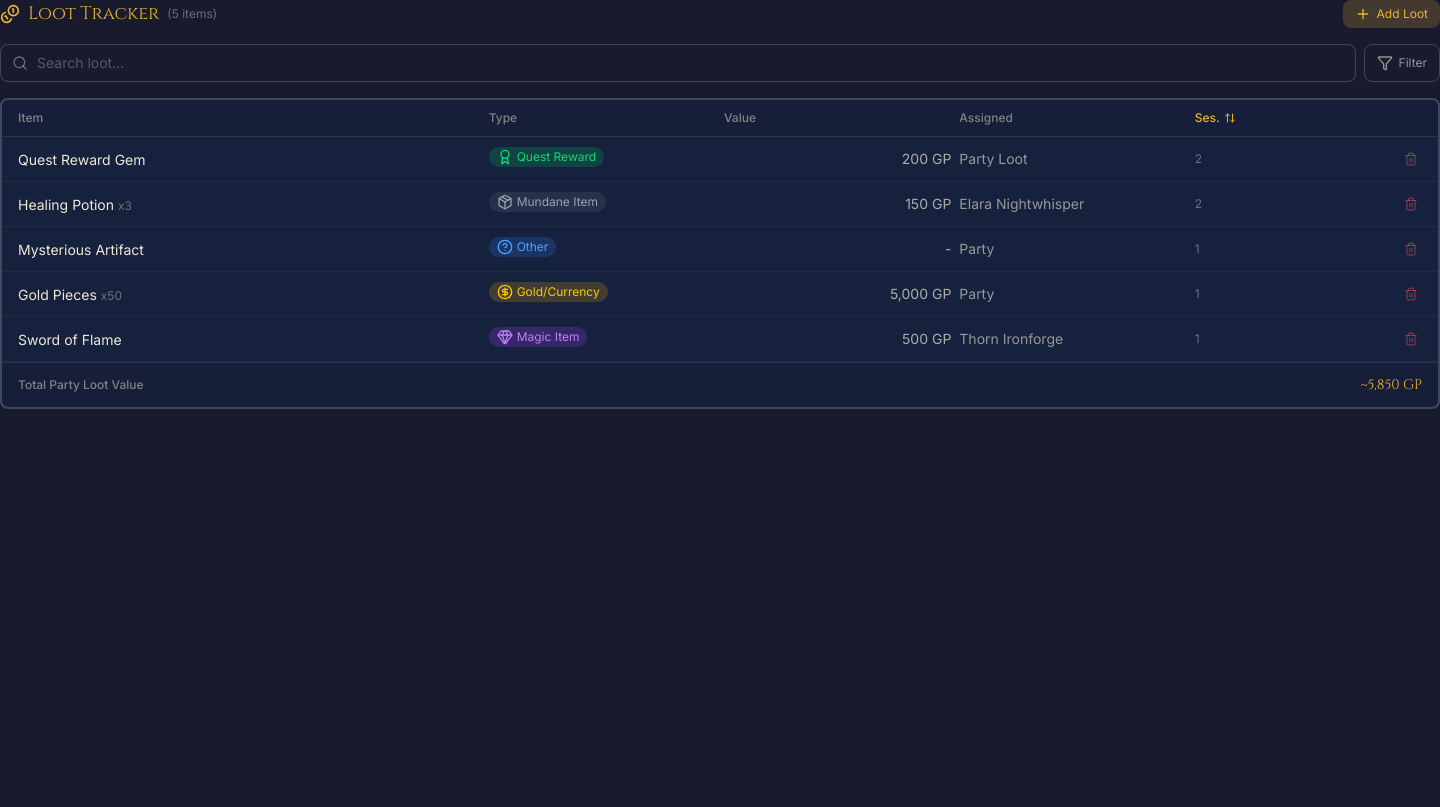
LootTracker › should open quick-add form on "Add Loot" button click
The image size is (1440, 807).
Click the button labelled "Add Loot": (1391, 14) [1342, 0, 1439, 28]
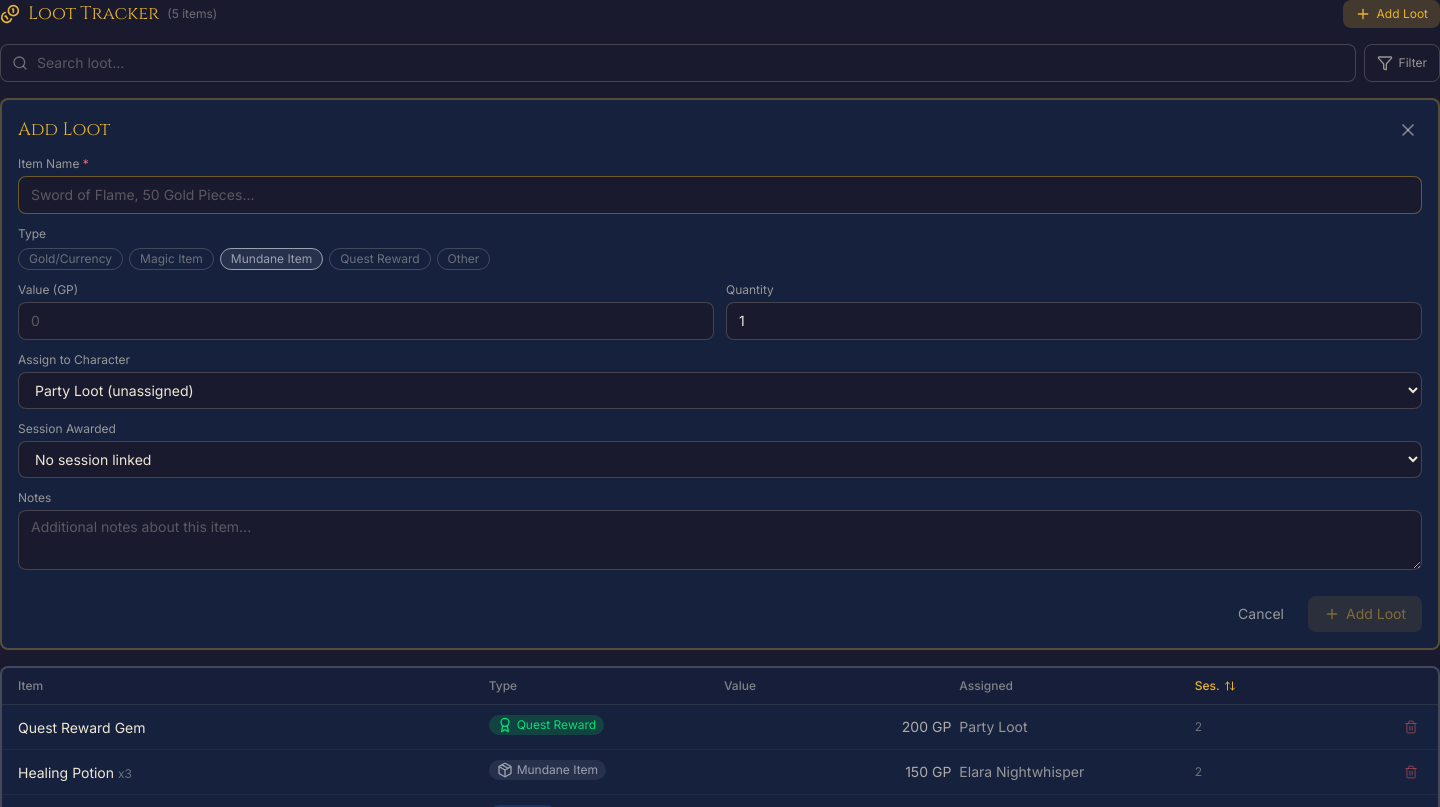
Now the form with test id "loot-entry-form" is shown
